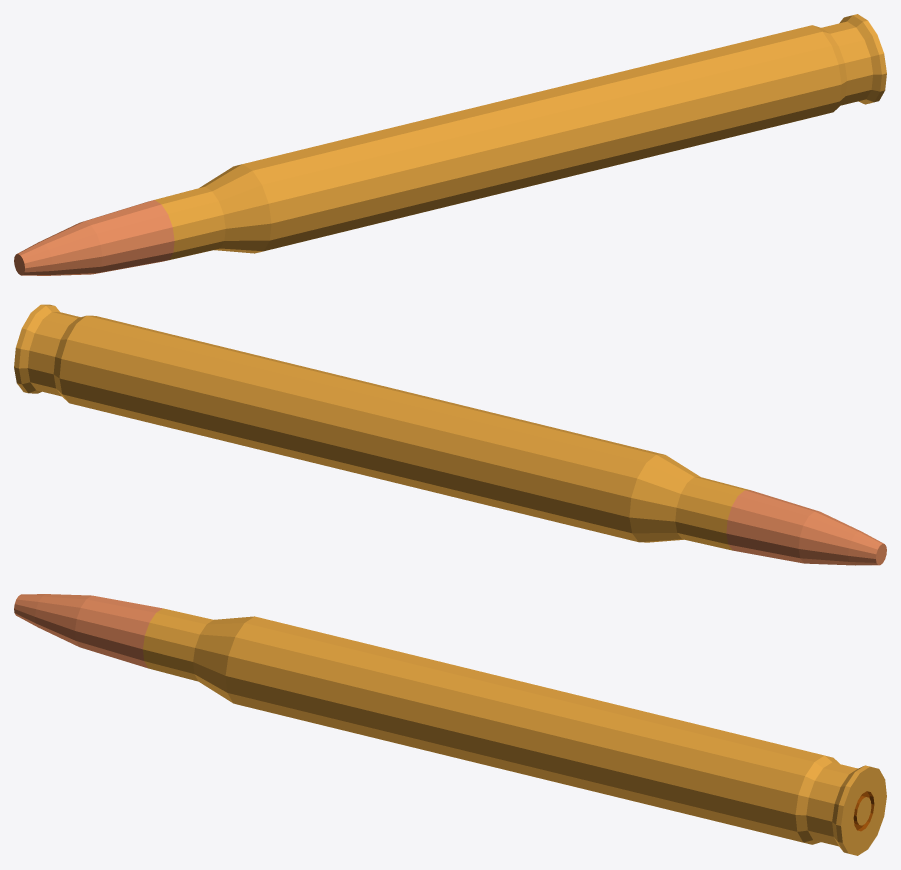
The model's file is bullet.fbx.
3 views of the same model, one above another, from view 1: azimuth 30°, elevation 25°; view 2: azimuth 150°, elevation 25°; view 3: azimuth 330°, elevation 25° (orthographic).
Parts seen in each view (by area): view 1: BulletCasing4, BulletTip.003; view 2: BulletCasing4, BulletTip.003; view 3: BulletCasing4, BulletTip.003.
Boxes of the visible parts, x1=… form: BulletCasing4: x1=155, y1=14, x2=886, y2=260; BulletTip.003: x1=14, y1=200, x2=174, y2=275; BulletCasing4: x1=14, y1=304, x2=750, y2=550; BulletTip.003: x1=726, y1=490, x2=886, y2=565; BulletCasing4: x1=143, y1=608, x2=886, y2=855; BulletTip.003: x1=14, y1=594, x2=162, y2=668.
Size of the model in its own units: 359 by 33.34 by 33.82.
